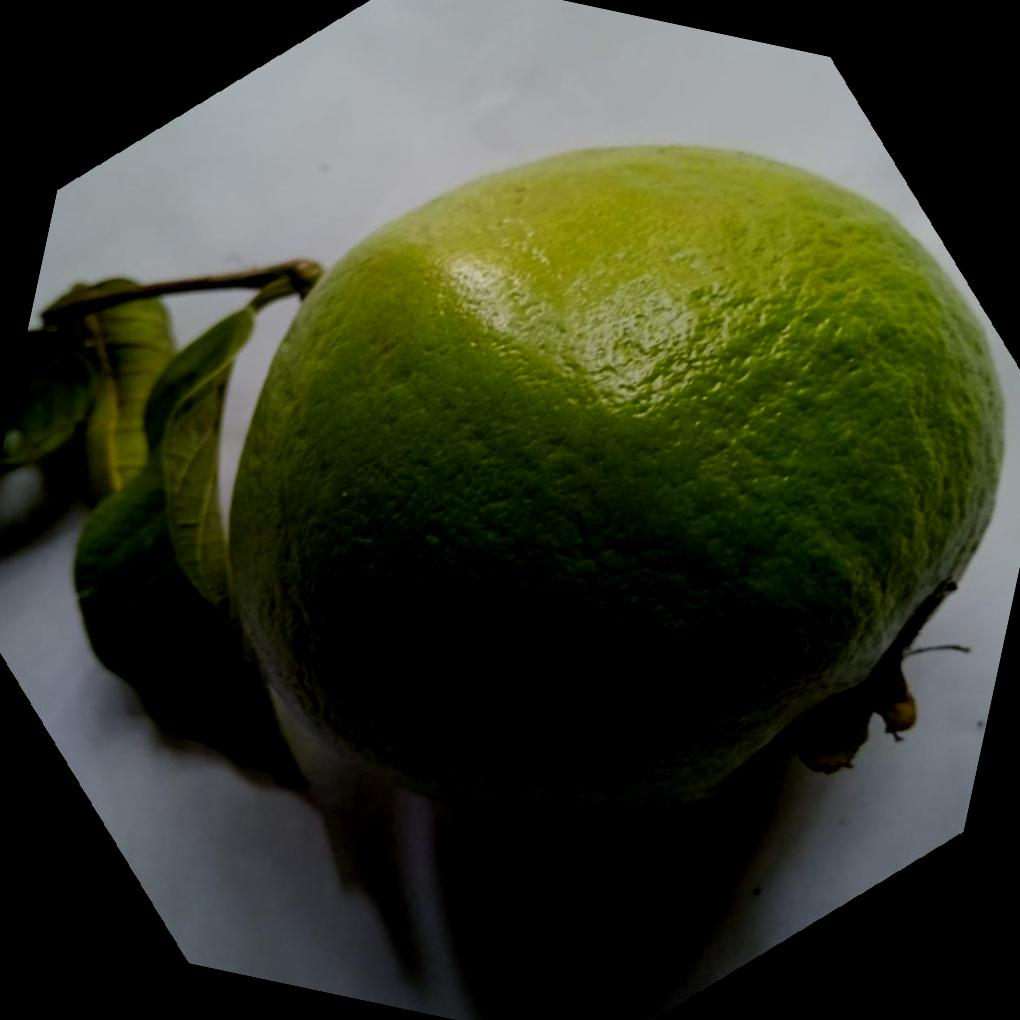FreshGuava: (218, 144, 1005, 830)
